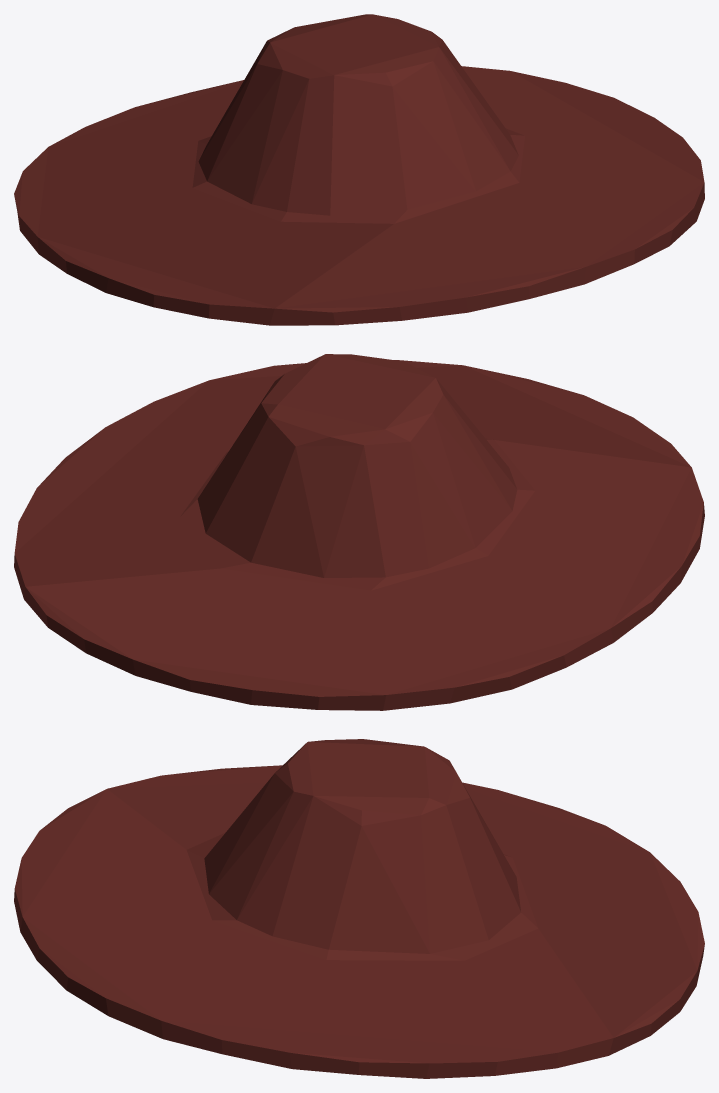
The picture shows the model from 3 angles, top to bottom: view 1: azimuth 30°, elevation 25°; view 2: azimuth 150°, elevation 25°; view 3: azimuth 270°, elevation 25°; orthographic projection. The views are drawn at different scales.
Visible parts, largest first — view 1: Cube.001; view 2: Cube.001; view 3: Cube.001.
Part boxes in pixels (x1,y1,x2,y2): Cube.001: (14,14,704,325); Cube.001: (14,354,704,710); Cube.001: (14,739,704,1078).
Size of the model in its own units: 2.09 by 0.6362 by 2.09.
